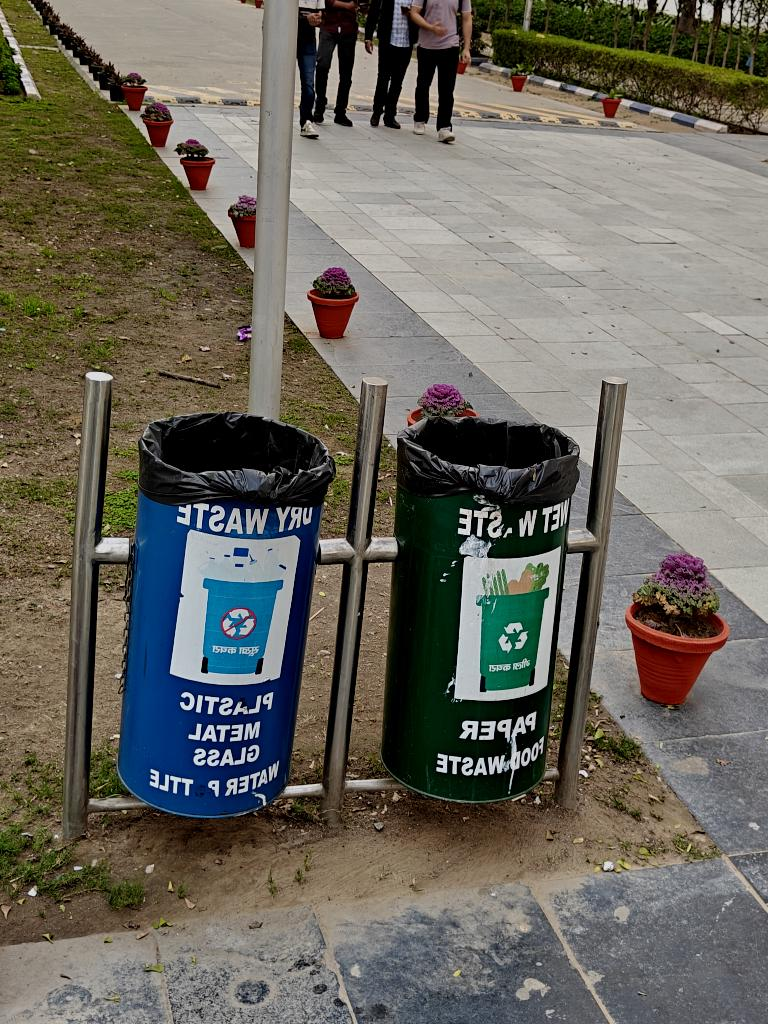dustbin: (53, 368, 630, 876)
